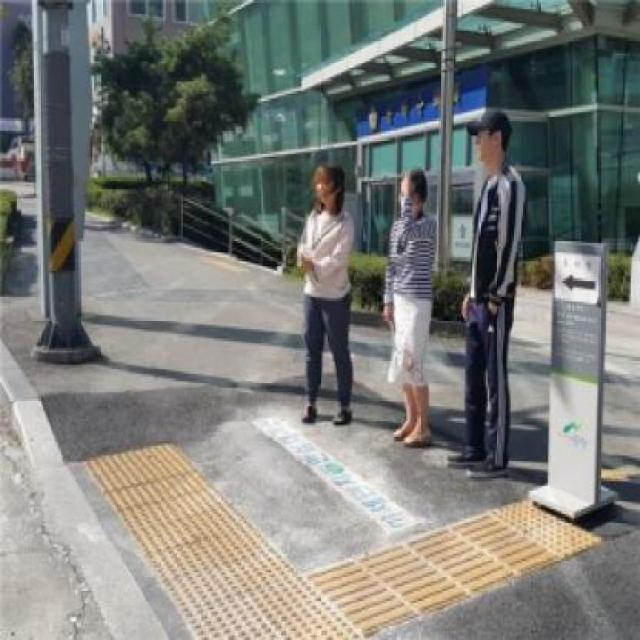Person: (459, 111, 524, 478), (300, 163, 358, 423), (386, 169, 440, 448)
